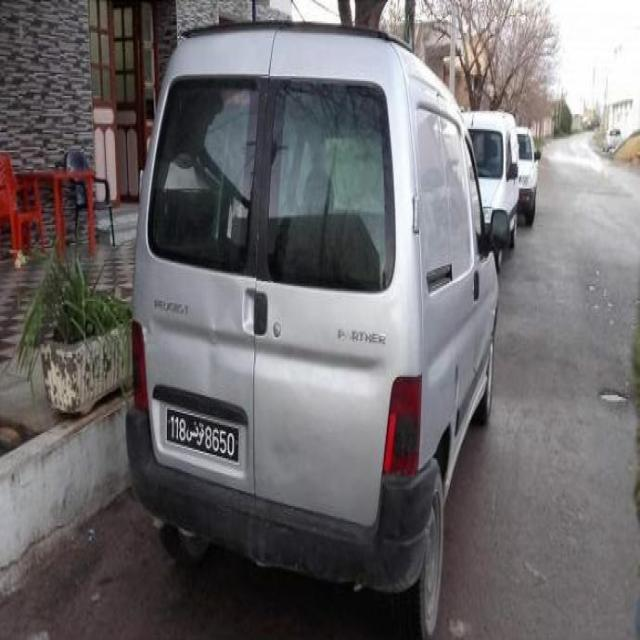LP: (161, 404, 242, 472)
